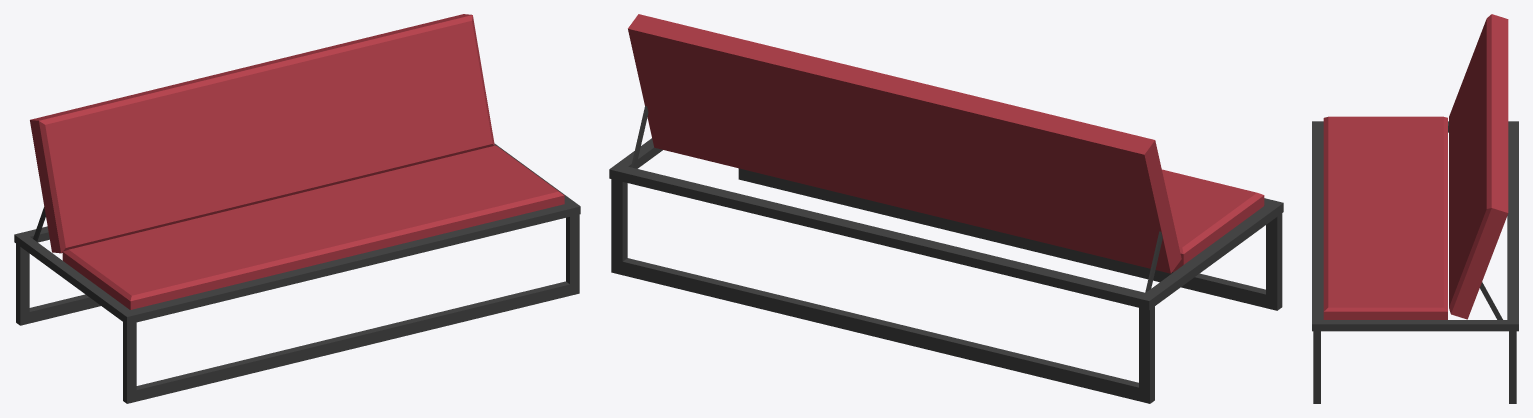
File: Garden_Sofa_Red_vc.fbx
The picture shows the model from 3 angles, left to right: view 1: azimuth 30°, elevation 25°; view 2: azimuth 150°, elevation 25°; view 3: azimuth 270°, elevation 25°; orthographic projection. The views are drawn at different scales.
Parts seen in each view (by area): view 1: Garden_Sofa_Red_vc; view 2: Garden_Sofa_Red_vc; view 3: Garden_Sofa_Red_vc.
Part boxes in pixels (box(x1,y1,x2,y2)): Garden_Sofa_Red_vc: box(14, 14, 580, 403); Garden_Sofa_Red_vc: box(609, 14, 1283, 403); Garden_Sofa_Red_vc: box(1312, 14, 1518, 403).
Size of the model in its own units: 568 by 251 by 245.
